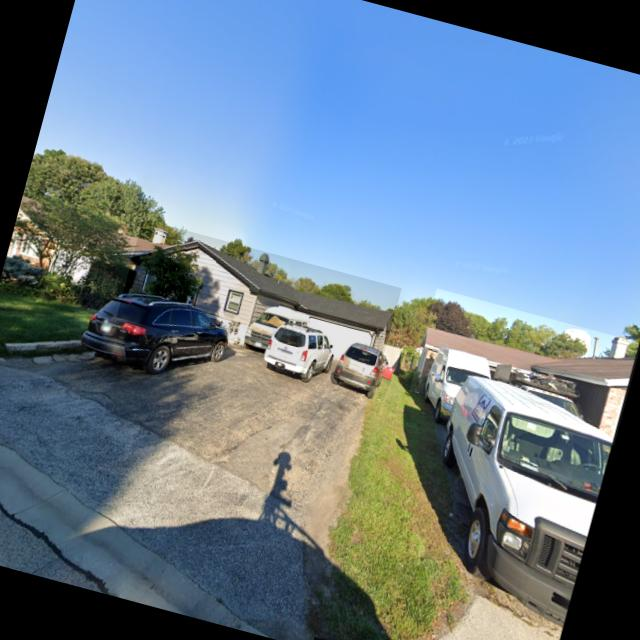House: (116, 218, 402, 386), (408, 288, 640, 445), (2, 192, 180, 309)
